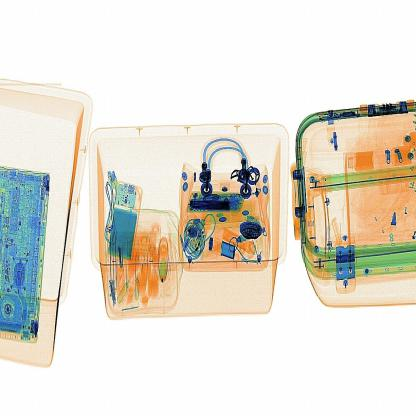scissors: (188, 194, 243, 222)
